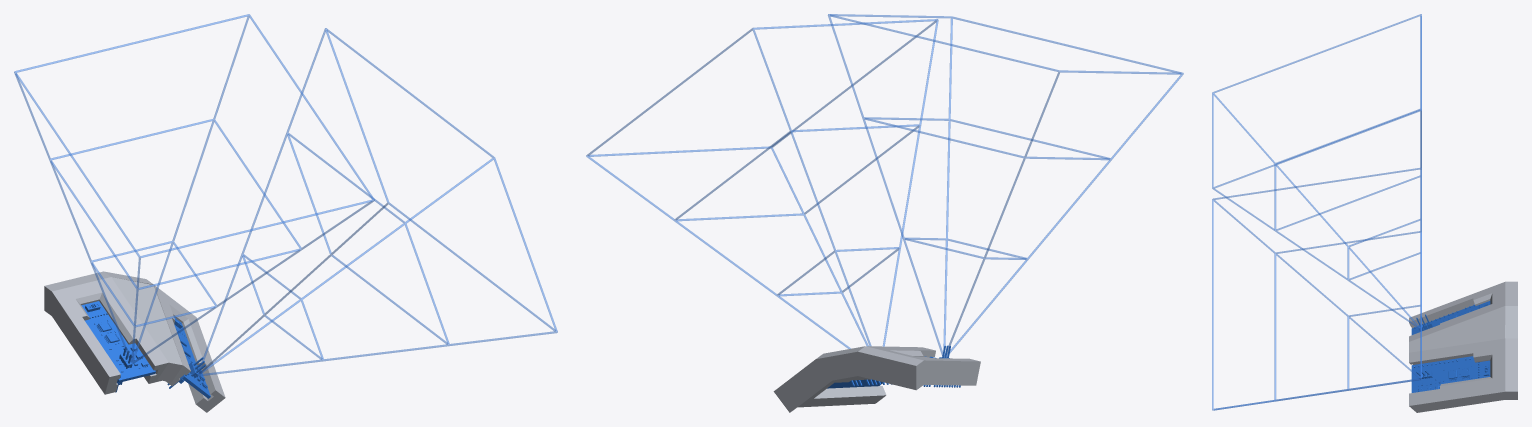
File: USER_doubleTOFassem_FOV.glb
3 renders of one model, left to right at view 1: azimuth 30°, elevation 25°; view 2: azimuth 150°, elevation 25°; view 3: azimuth 270°, elevation 25°, orthographic. The views are drawn at different scales.
Visible parts, largest first — view 1: REF_fov_B, REF_fov_A, PRINT_body_117, PRINT_body_235, PRINT_body_236, SATEL_board_A, SATEL_board_B; view 2: REF_fov_A, REF_fov_B, PRINT_body_117, PRINT_body_235, PRINT_body_236; view 3: PRINT_body_235, REF_fov_A, REF_fov_B, PRINT_body_236, PRINT_body_117, SATEL_board_B, SATEL_board_A.
Part boxes in pixels (x1,y1,x2,y2): REF_fov_B: [198, 28, 557, 376]; REF_fov_A: [14, 14, 374, 364]; PRINT_body_117: [44, 271, 168, 394]; PRINT_body_235: [154, 285, 225, 412]; PRINT_body_236: [104, 271, 182, 382]; SATEL_board_A: [81, 301, 155, 392]; SATEL_board_B: [167, 317, 210, 398]; REF_fov_A: [828, 14, 1183, 356]; REF_fov_B: [586, 19, 938, 348]; PRINT_body_117: [858, 346, 980, 390]; PRINT_body_235: [773, 359, 886, 412]; PRINT_body_236: [816, 346, 864, 380]; PRINT_body_235: [1409, 338, 1517, 412]; REF_fov_A: [1212, 14, 1421, 329]; REF_fov_B: [1212, 167, 1421, 410]; PRINT_body_236: [1409, 306, 1517, 352]; PRINT_body_117: [1409, 281, 1517, 341]; SATEL_board_B: [1411, 356, 1490, 392]; SATEL_board_A: [1411, 301, 1490, 334].
Bounding box in the file's own units: 255 × 196 × 169.
